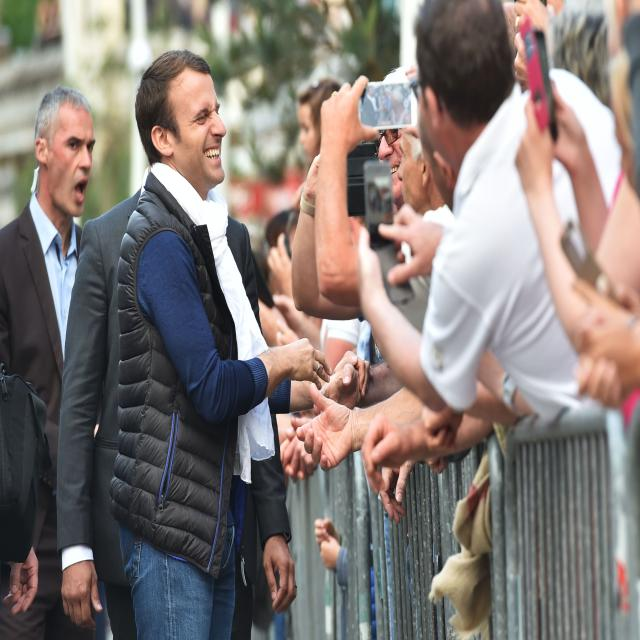body: (256, 2, 640, 639), (107, 46, 334, 640), (357, 1, 626, 431), (55, 167, 299, 640), (0, 86, 97, 640), (0, 348, 66, 640)
